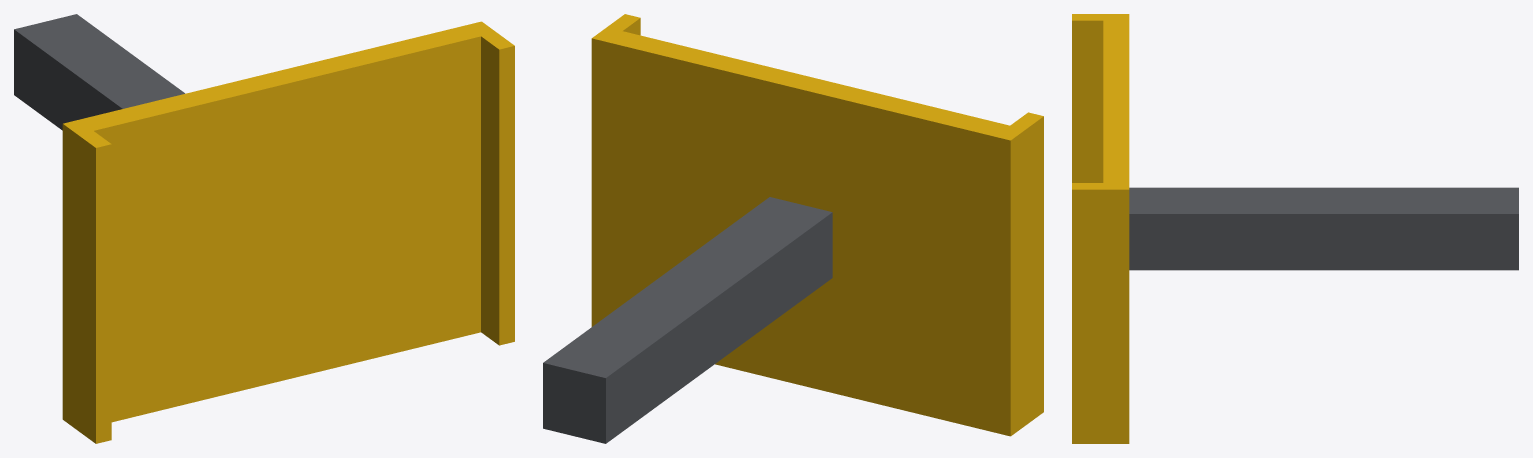
The model's file is tool_tray.glb.
3 views of the same model, side by side, from view 1: azimuth 30°, elevation 25°; view 2: azimuth 150°, elevation 25°; view 3: azimuth 270°, elevation 25° (orthographic). The views are drawn at different scales.
Parts seen in each view (by area): view 1: tool_tray; view 2: tool_tray; view 3: tool_tray.
Part boxes in pixels (bbox=[...]): tool_tray: bbox=[14, 14, 514, 443]; tool_tray: bbox=[543, 14, 1043, 443]; tool_tray: bbox=[1072, 14, 1518, 443].
Size of the model in its own units: 0.4 by 0.27 by 0.43.
